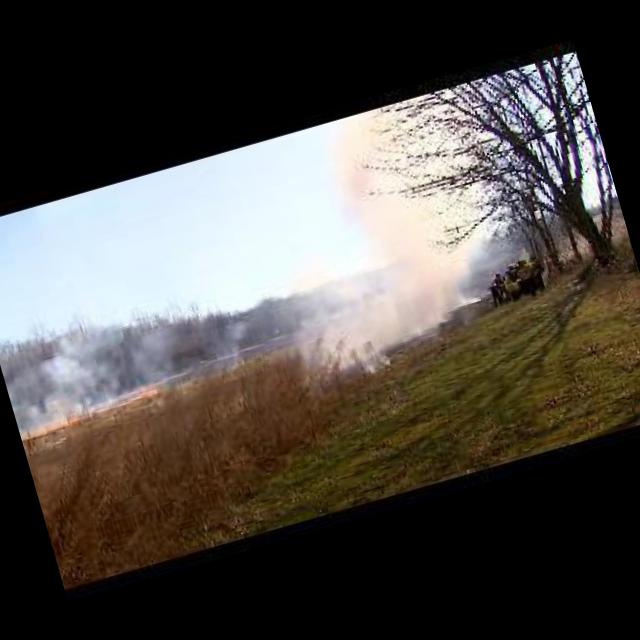fire: (116, 384, 158, 410), (20, 424, 59, 441), (62, 414, 78, 426)
smoke: (0, 300, 192, 434)
